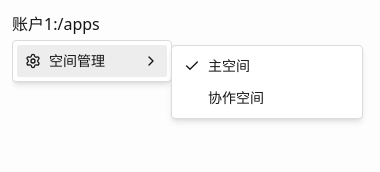
workspace switcher › lists all workspaces and switches back to the workspace home
Step 1. Click the menu item with test id "workspace-2" → x=236, y=98, box 208,88 -> 264,107
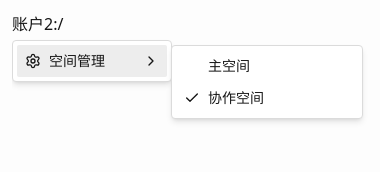
Expected: the text with test id "state" reads "2:/", 44,13 -> 63,35
